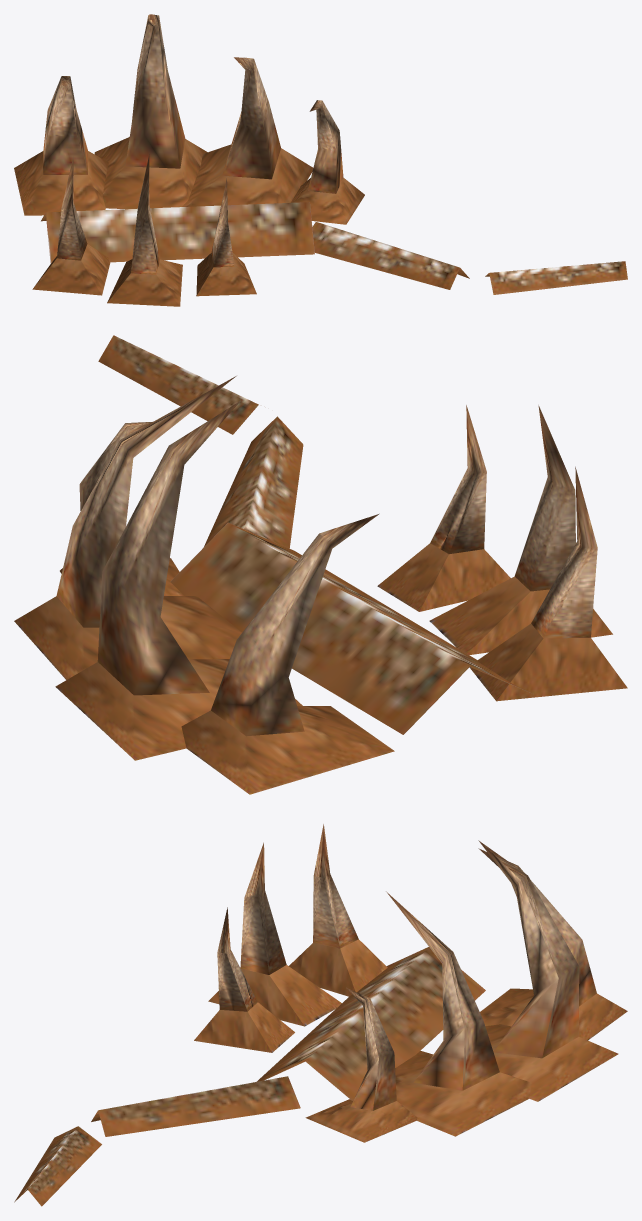
Rendered from bones0.obj.
3 views of the same model, one above another, from view 1: azimuth 30°, elevation 25°; view 2: azimuth 150°, elevation 25°; view 3: azimuth 270°, elevation 25° (orthographic). The views are drawn at different scales.
Visible parts, largest first — view 1: Converted_object_1; view 2: Converted_object_1; view 3: Converted_object_1.
Boxes of the visible parts, x1,y1,x2,y2 form: Converted_object_1: (14, 14, 627, 306); Converted_object_1: (14, 335, 627, 794); Converted_object_1: (14, 824, 627, 1206).
Size of the model in its own units: 4.93 by 1.88 by 4.96.
Materials: 1 (1 with a texture image).
